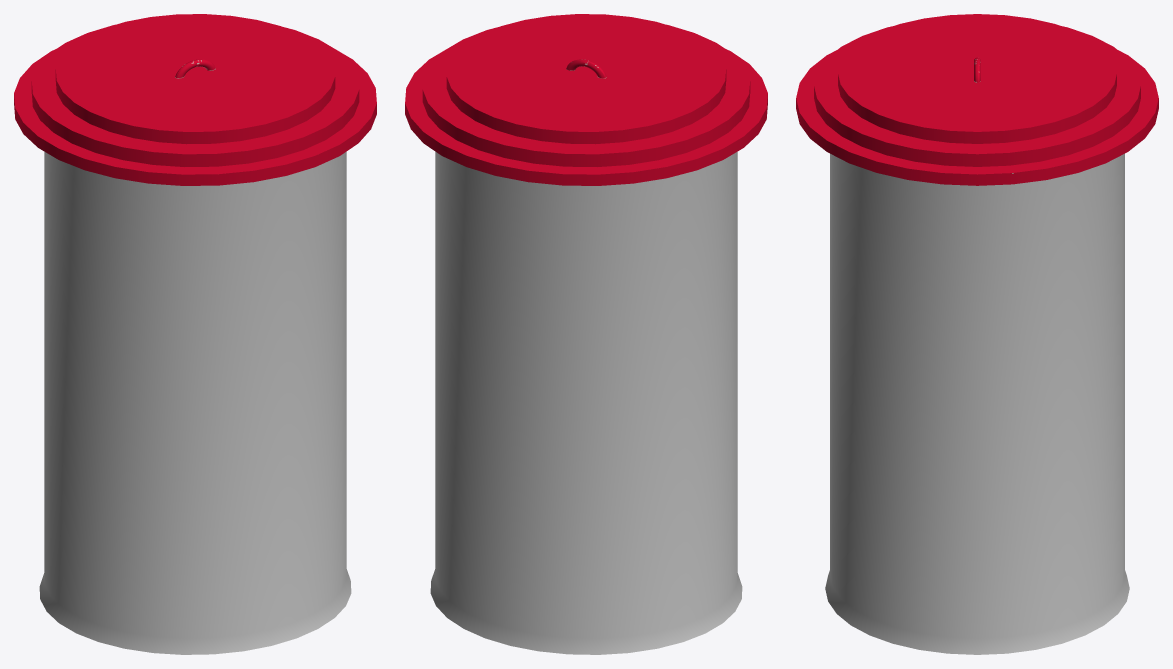
File: trashcan.glb
The picture shows the model from 3 angles, left to right: view 1: azimuth 30°, elevation 25°; view 2: azimuth 150°, elevation 25°; view 3: azimuth 270°, elevation 25°; orthographic projection.
Parts seen in each view (by area): view 1: Cylinder.002; view 2: Cylinder.002; view 3: Cylinder.002.
Part boxes in pixels (box(x1,y1,x2,y2)): Cylinder.002: box(14, 14, 376, 654); Cylinder.002: box(405, 14, 767, 654); Cylinder.002: box(796, 14, 1158, 654).
Bounding box in the file's own units: 1.7 × 2.72 × 1.7.
Materials: 2 (2 with a texture image).
